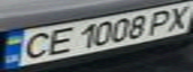0: (93, 18, 115, 47), (112, 16, 133, 43)
1: (75, 21, 96, 50)
8: (127, 11, 154, 39)
C: (12, 29, 57, 61)
E: (39, 25, 78, 56)
P: (142, 7, 178, 36)
X: (160, 2, 193, 32)
